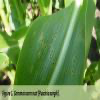Corn rust leaf: (13, 0, 98, 86)
